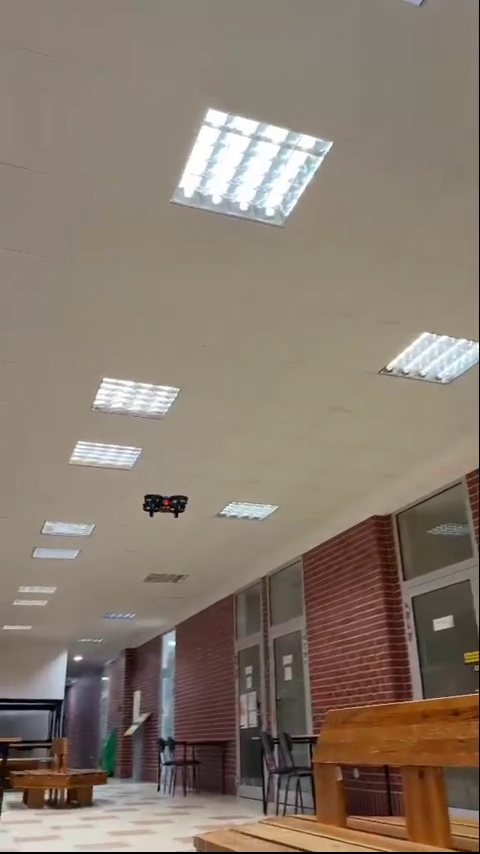drone: (141, 486, 189, 519)
